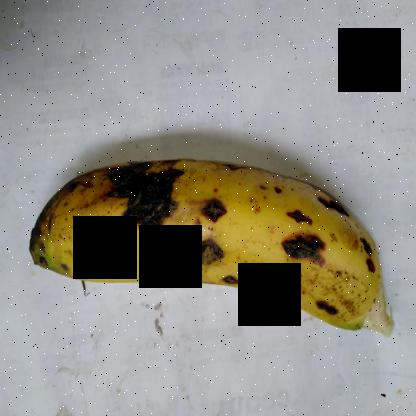rotten: (97, 152, 178, 239), (262, 203, 323, 278), (131, 236, 182, 284), (347, 235, 386, 282), (312, 178, 352, 223), (310, 287, 341, 333), (190, 233, 228, 270), (190, 196, 229, 230), (217, 265, 247, 301)
